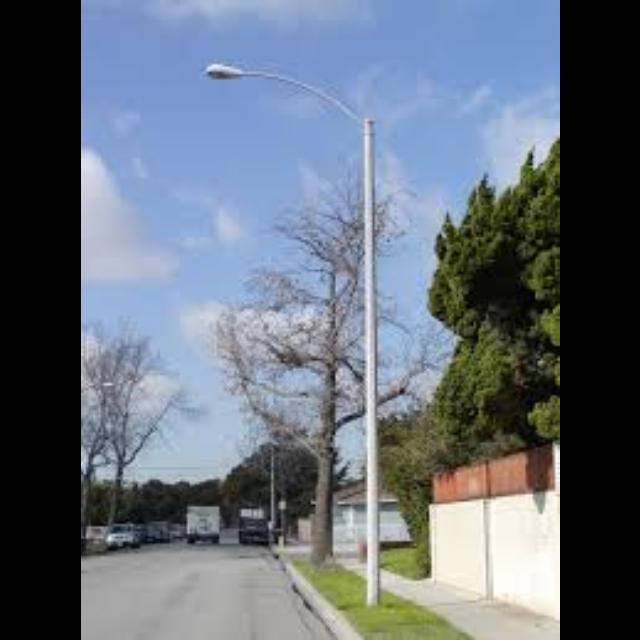Street-Lamp: (197, 49, 409, 615)
